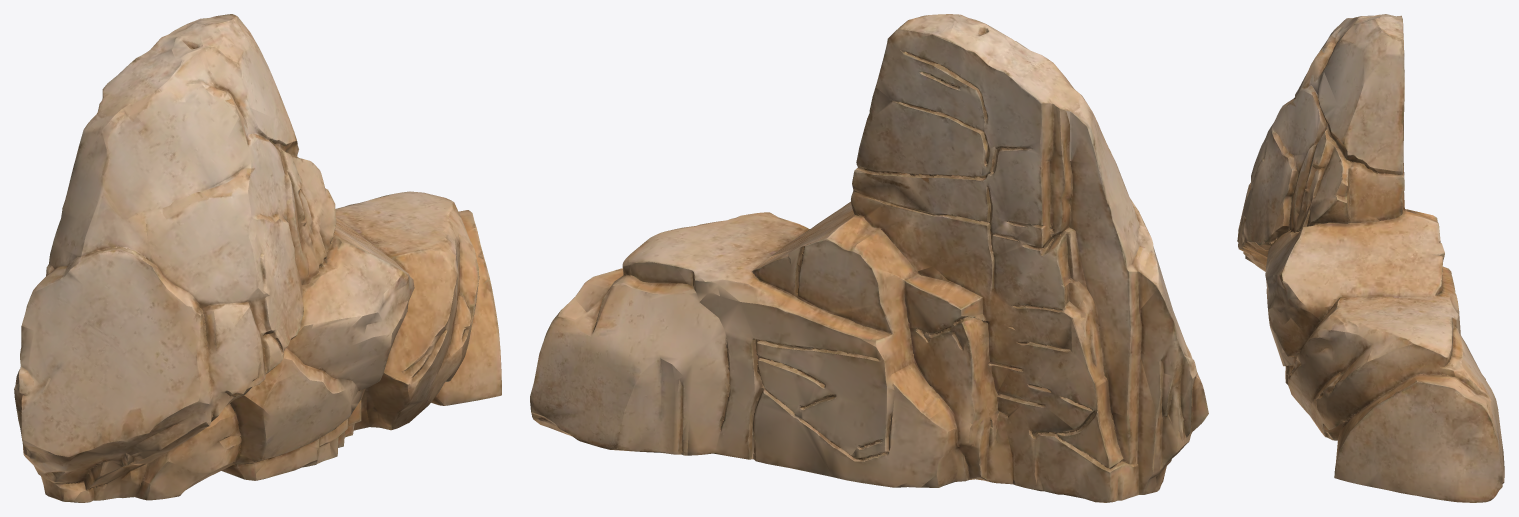
The model's file is desert-rock-2.glb.
3 renders of one model, left to right at view 1: azimuth 30°, elevation 25°; view 2: azimuth 150°, elevation 25°; view 3: azimuth 270°, elevation 25°, orthographic. The views are drawn at different scales.
Parts seen in each view (by area): view 1: model.002; view 2: model.002; view 3: model.002.
Part boxes in pixels (x1,y1,x2,y2): model.002: [14, 14, 501, 502]; model.002: [530, 14, 1208, 502]; model.002: [1237, 14, 1504, 502].
Size of the model in its own units: 1.9 by 1.4 by 0.9605.
1 material, 1 textured.
